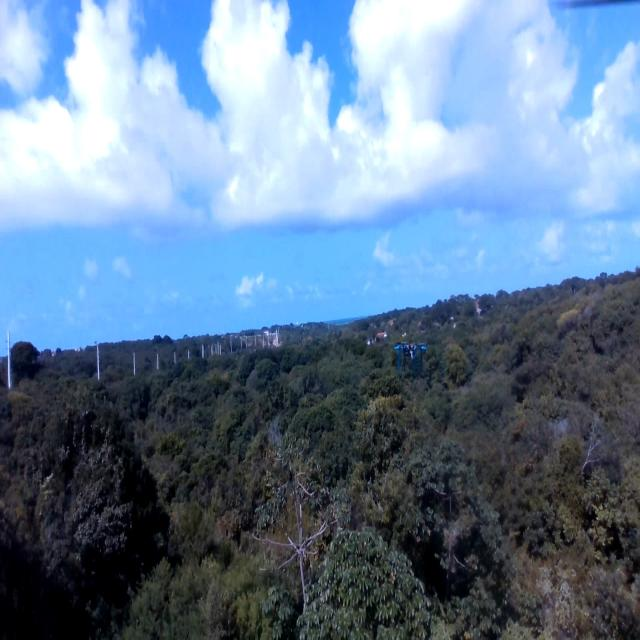-uav-: (389, 330, 428, 375)
